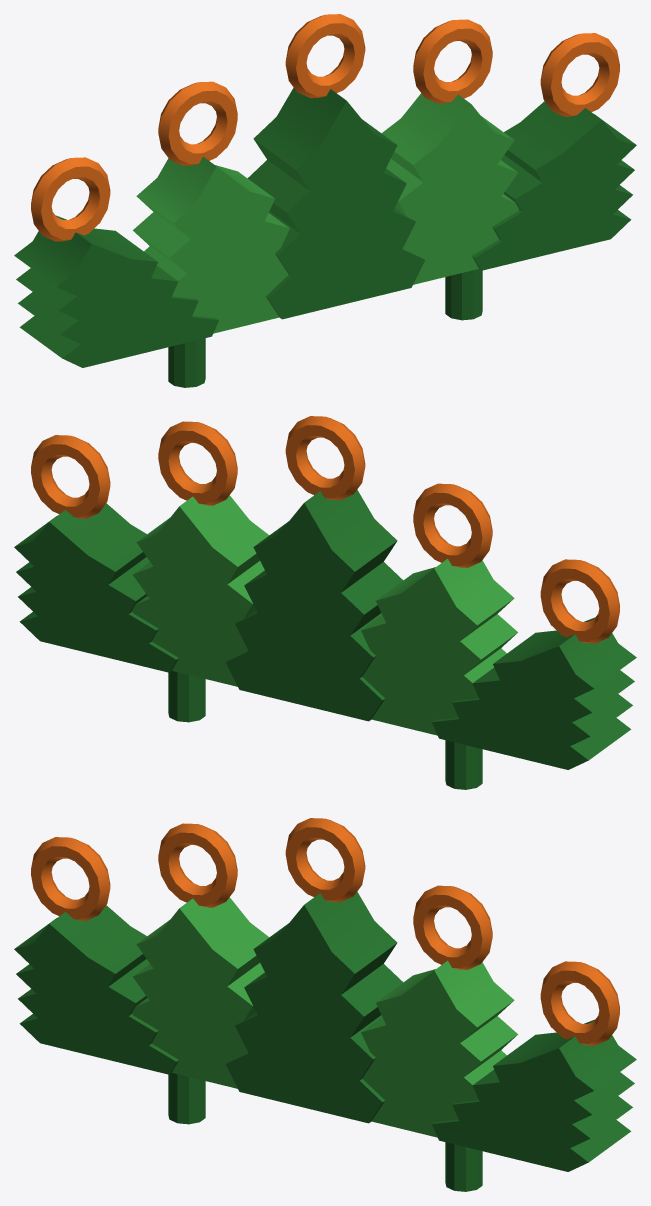
3 views of the same model, one above another, from view 1: azimuth 30°, elevation 25°; view 2: azimuth 150°, elevation 25°; view 3: azimuth 330°, elevation 25° (orthographic).
Parts seen in each view (by area): view 1: M-62; view 2: M-62; view 3: M-62.
Boxes of the visible parts, x1,y1,x2,y2 form: M-62: (14, 14, 636, 387); M-62: (14, 416, 636, 789); M-62: (14, 818, 636, 1191).
Bounding box in the file's own units: 0.0638 × 0.0343 × 0.008.
